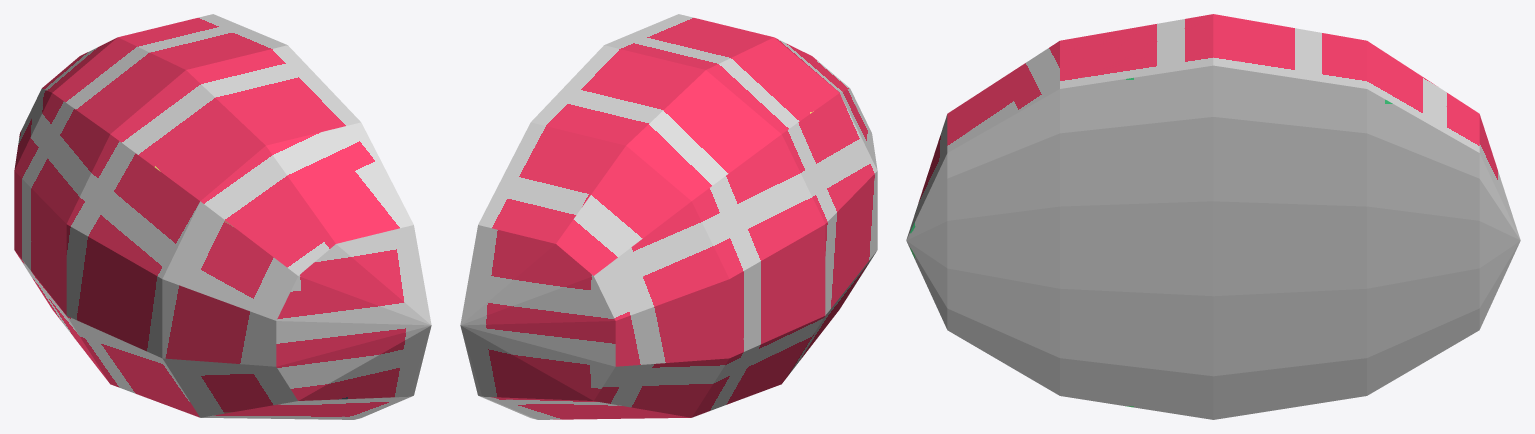
Rendered from другая лампочка.obj.
The picture shows the model from 3 angles, left to right: view 1: azimuth 30°, elevation 25°; view 2: azimuth 150°, elevation 25°; view 3: azimuth 270°, elevation 25°; orthographic projection. The views are drawn at different scales.
Visible parts, largest first — view 1: sphere; view 2: sphere; view 3: sphere.
Part boxes in pixels (x1,y1,x2,y2): sphere: (14,14,431,419); sphere: (460,14,877,419); sphere: (906,14,1520,419).
Size of the model in its own units: 0.3125 by 0.4375 by 0.6875.
